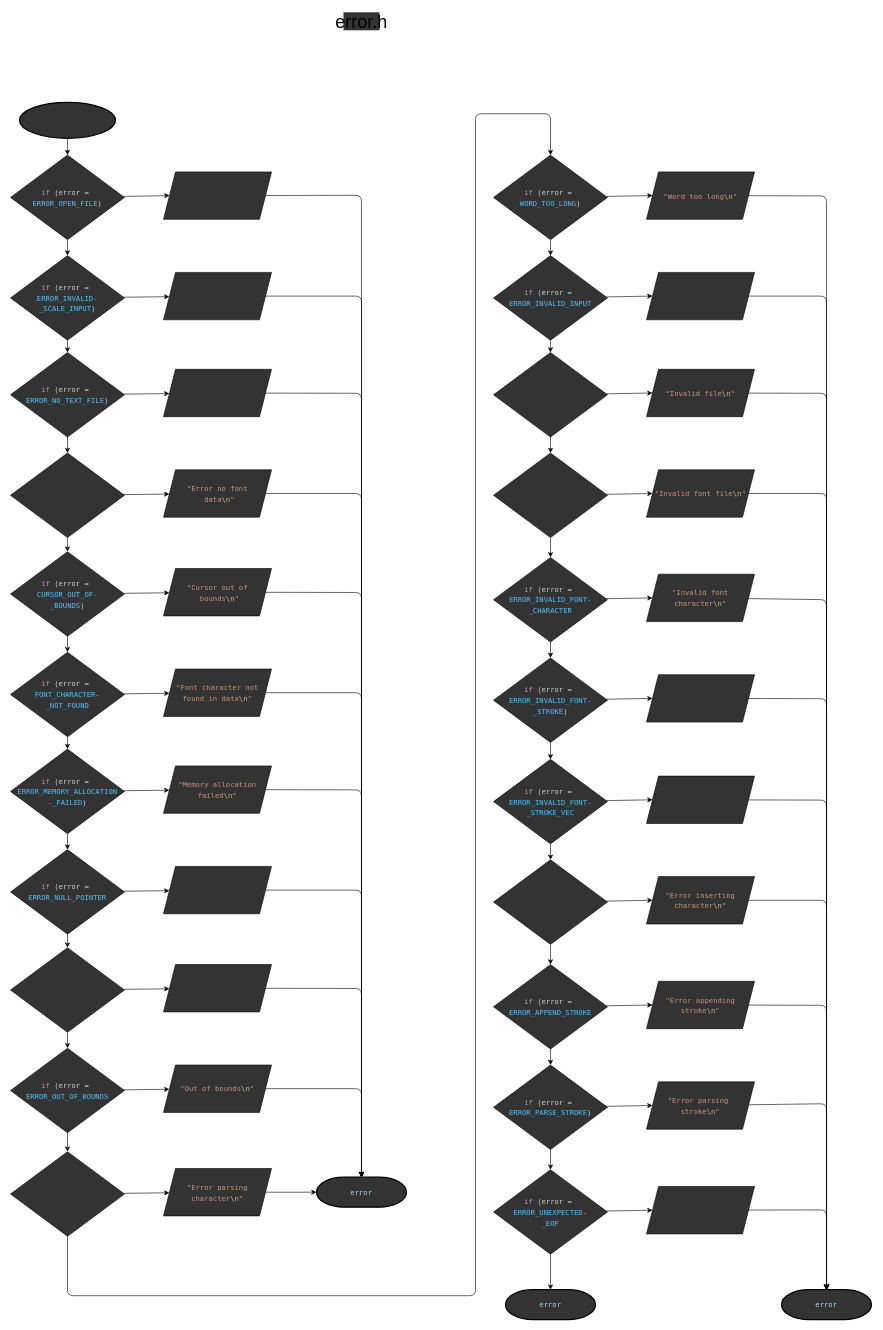
Image size: 883x1330. Some labels were removed from this diagram. Here are the shapes that lost their labels. From the top down, the box of each, then its label:
(19, 101, 116, 139): cursorConstructor ()
(163, 171, 272, 219): "Error opening text file \n "
(163, 272, 272, 320): "Invalid input. Height must be between 4 and 10 mm. \n"
(646, 272, 754, 320): "Invalid input \n "
(163, 369, 272, 417): "Error no text file \n "
(493, 352, 608, 437): if (error = ERROR_INVALID_FILE )
(10, 452, 124, 538): if (error = ERROR_NO_FONT_DATA )
(493, 452, 608, 538): if (error = ERROR_INVALID- _FONT_FILE
(646, 674, 754, 722): "Invalid font stroke \n "
(646, 776, 754, 824): "Invalid font stroke vector \n "
(163, 866, 272, 914): "Null pointer \n "
(493, 859, 608, 944): if (error = ERROR_INSERT- _CHARACTER )
(10, 947, 124, 1032): if (error = ERROR_UNABLE_TO- _OPEN_COM_PORT
(163, 964, 272, 1012): "Unable to open COM port \n "
(10, 1151, 124, 1236): if (error = ERROR_PARSE- _CHARACTER )
(646, 1186, 754, 1234): "Unexpected end of file \n "
